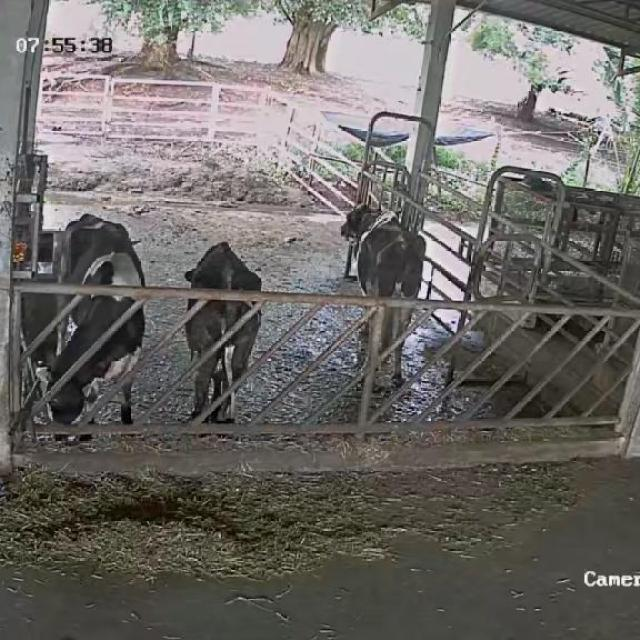standing: (40, 213, 148, 436), (177, 240, 266, 438), (338, 202, 429, 390)
